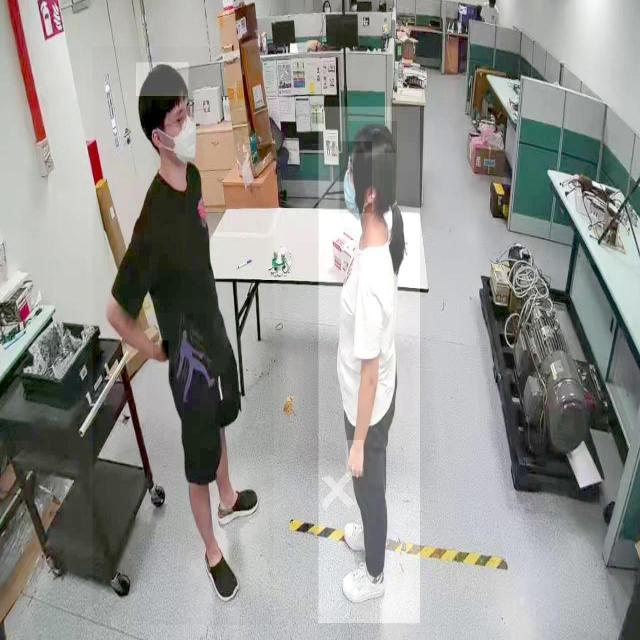face_mask: (152, 100, 204, 166), (340, 142, 372, 214)
glasses: (175, 94, 199, 134)
hand_noglove: (346, 440, 364, 477), (153, 340, 169, 364)
head_nohelmet: (136, 62, 189, 97), (348, 121, 398, 154)
person: (92, 46, 274, 626), (318, 107, 421, 624)
shoes: (200, 538, 240, 602), (340, 558, 390, 606), (214, 484, 263, 527), (342, 512, 382, 552)
